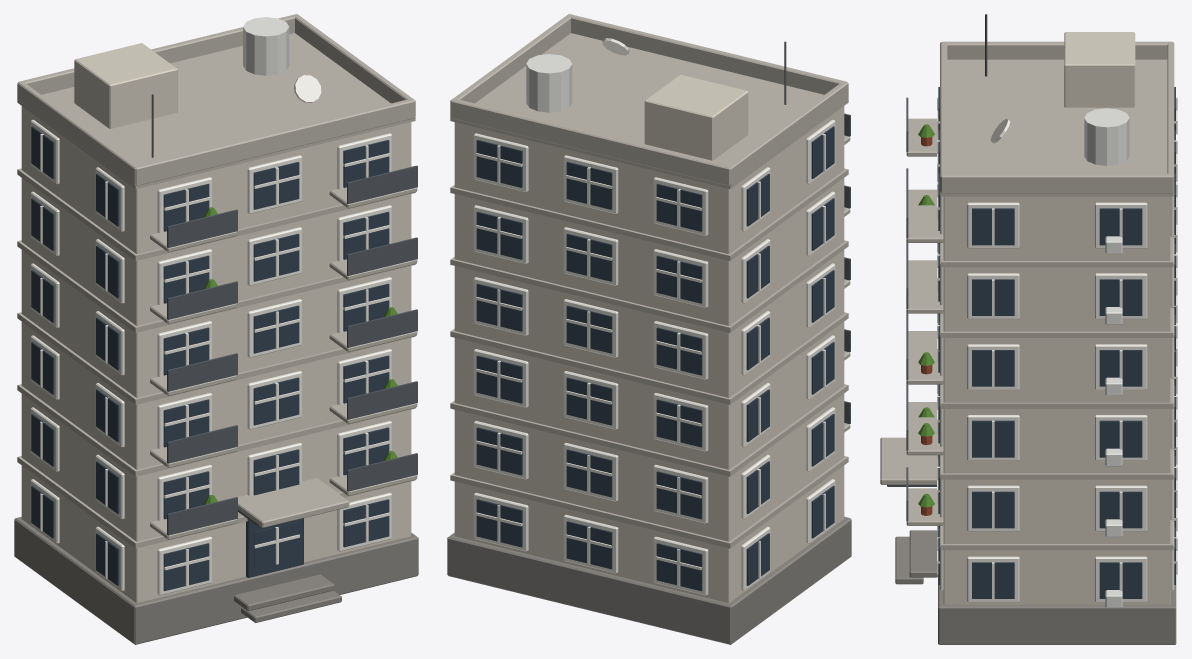
Rendered from apt_6.glb.
3 views of the same model, side by side, from view 1: azimuth 30°, elevation 25°; view 2: azimuth 150°, elevation 25°; view 3: azimuth 270°, elevation 25° (orthographic).
Visible parts, largest first — view 1: apt_6; view 2: apt_6; view 3: apt_6.
Boxes of the visible parts, x1,y1,x2,y2 form: apt_6: (14,14,418,644); apt_6: (447,14,851,644); apt_6: (880,14,1177,644).
Bounding box in the file's own units: 2.38 × 4 × 2.09.
